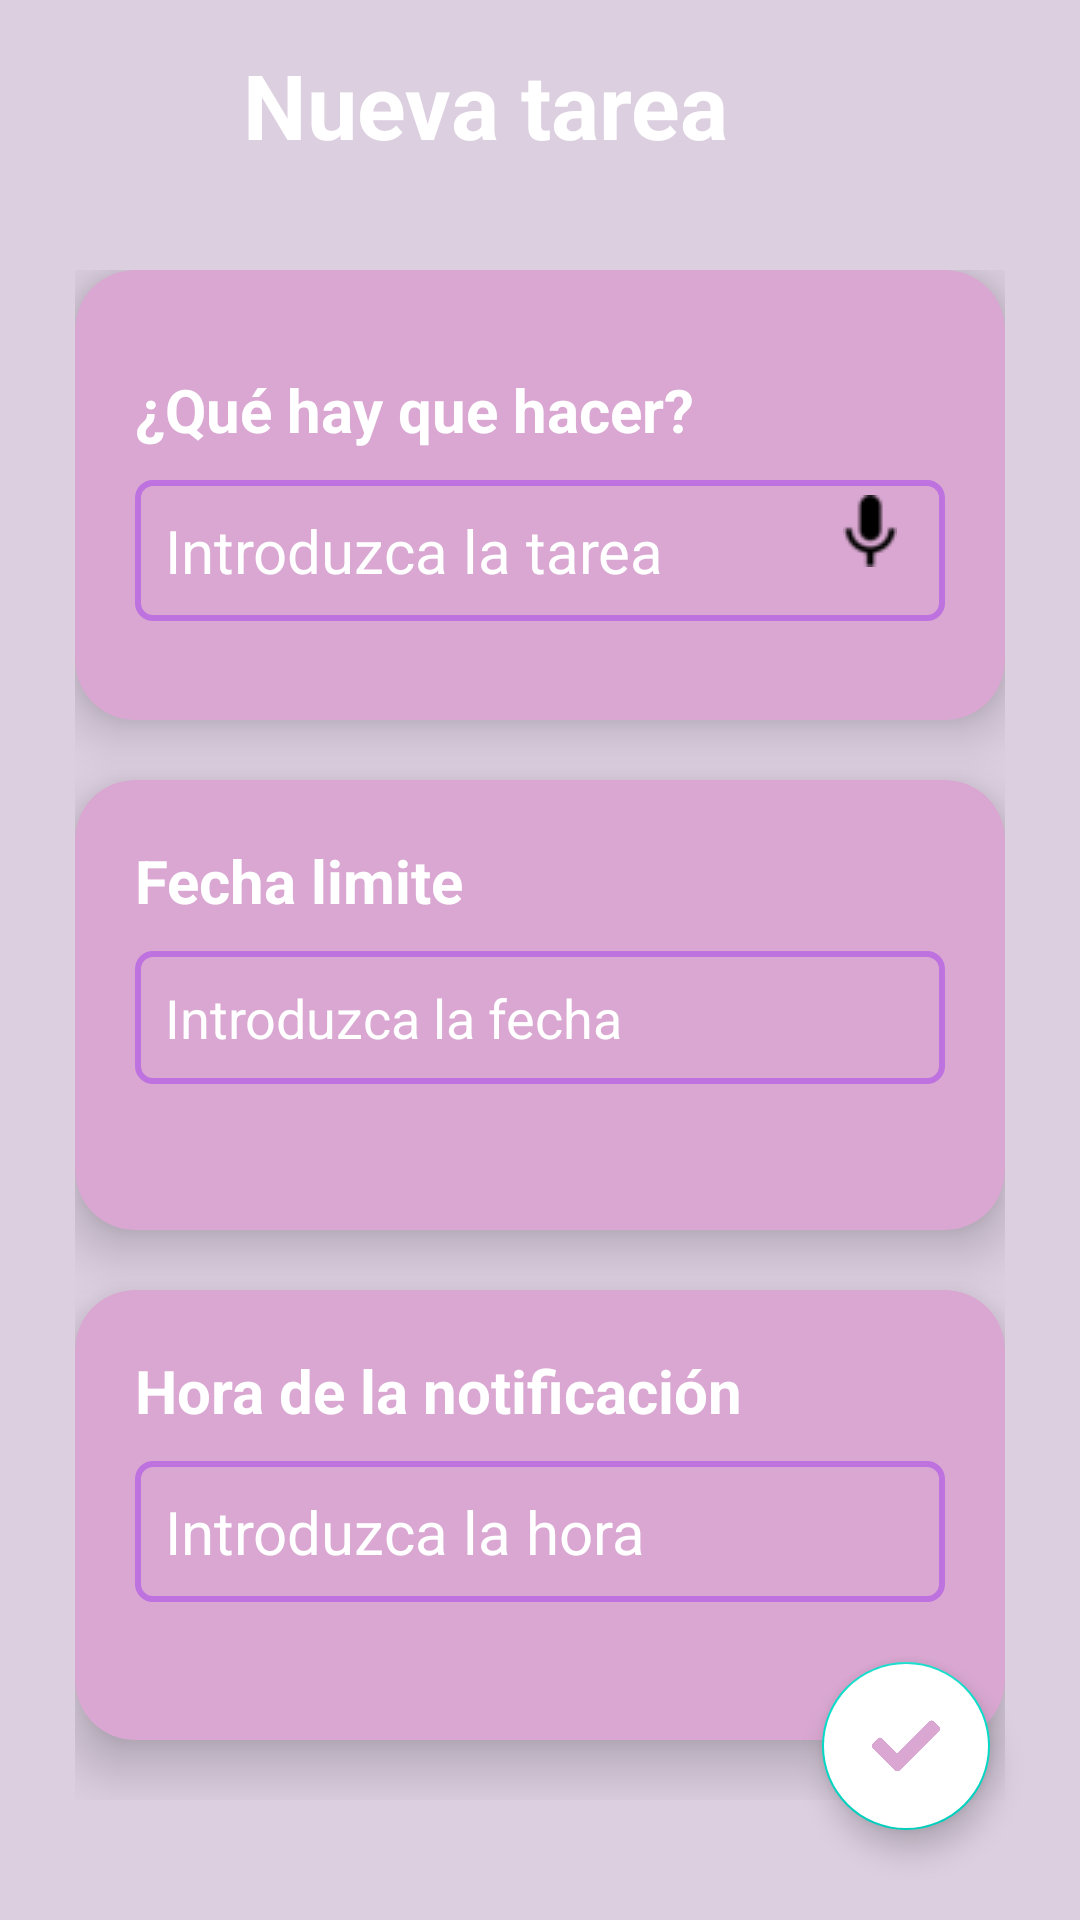

Icon click points for this 1080×1920 phone screenshot, format [x,y]:
check: [906,1746]
